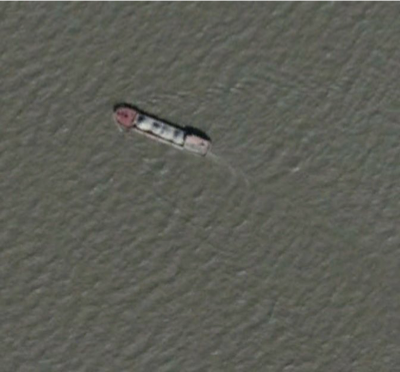boat: (109, 102, 212, 157)
